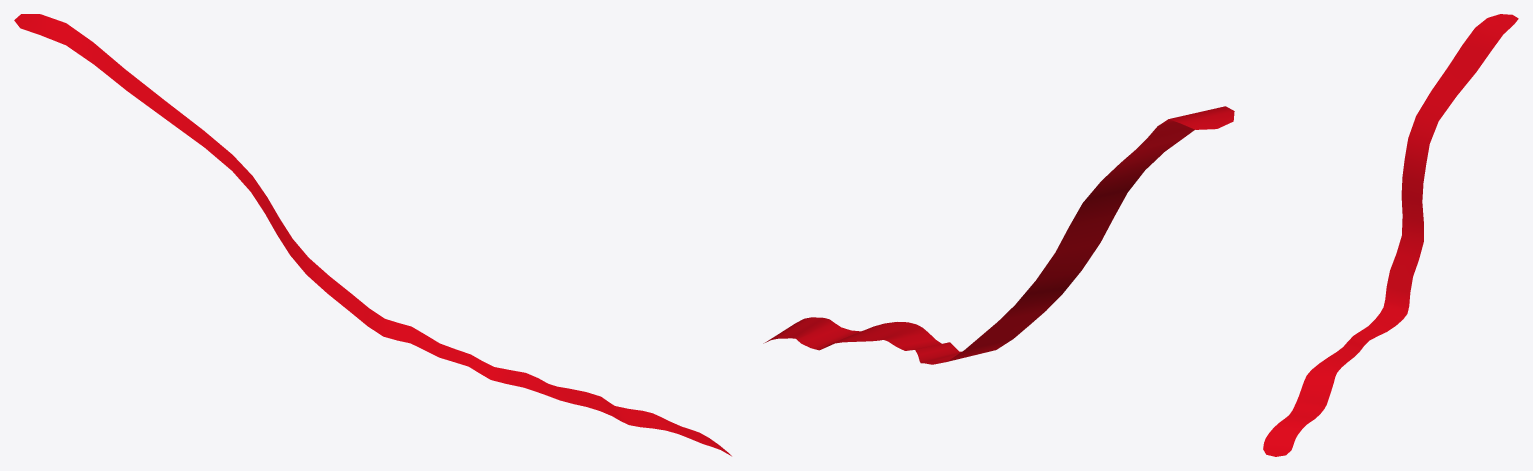
File: hair4.fbx
3 views of the same model, side by side, from view 1: azimuth 30°, elevation 25°; view 2: azimuth 150°, elevation 25°; view 3: azimuth 270°, elevation 25° (orthographic). The views are drawn at different scales.
Visible parts, largest first — view 1: Plane.004; view 2: Plane.004; view 3: Plane.004.
Part boxes in pixels (<box>): Plane.004: <box>14,14,731,456</box>; Plane.004: <box>763,106,1234,364</box>; Plane.004: <box>1263,14,1518,456</box>.
Bounding box in the file's own units: 4163 × 3184 × 2682.
